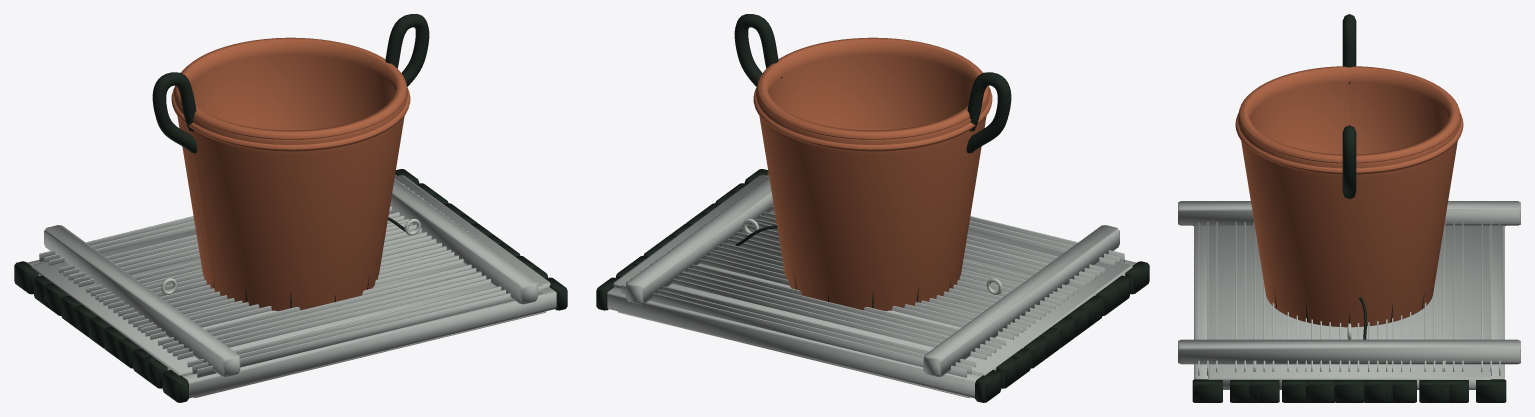
The model's file is grow-options.glb.
3 views of the same model, side by side, from view 1: azimuth 30°, elevation 25°; view 2: azimuth 150°, elevation 25°; view 3: azimuth 270°, elevation 25° (orthographic). The views are drawn at different scales.
Parts seen in each view (by area): view 1: pot_ceramic.006, led_multi_bar.006, led_panel.006, pot_fabric.006, led_bar.006; view 2: pot_ceramic.006, led_multi_bar.006, led_panel.006, pot_fabric.006, led_bar.006; view 3: pot_ceramic.006, led_multi_bar.006, led_panel.006, pot_fabric.006, led_bar.006.
Part boxes in pixels (x1=…): pot_ceramic.006: x1=171, y1=37, x2=410, y2=310; led_multi_bar.006: x1=14, y1=169, x2=567, y2=402; led_panel.006: x1=31, y1=175, x2=550, y2=388; pot_fabric.006: x1=152, y1=14, x2=429, y2=153; led_bar.006: x1=88, y1=217, x2=492, y2=348; pot_ceramic.006: x1=753, y1=37, x2=992, y2=310; led_multi_bar.006: x1=596, y1=169, x2=1149, y2=402; led_panel.006: x1=613, y1=175, x2=1132, y2=388; pot_fabric.006: x1=734, y1=14, x2=1011, y2=153; led_bar.006: x1=671, y1=218, x2=1074, y2=348; pot_ceramic.006: x1=1235, y1=66, x2=1463, y2=327; led_multi_bar.006: x1=1178, y1=201, x2=1520, y2=402; led_panel.006: x1=1208, y1=222, x2=1490, y2=402; pot_fabric.006: x1=1342, y1=14, x2=1356, y2=198; led_bar.006: x1=1334, y1=297, x2=1366, y2=402.
Bounding box in the file's own units: 0.575 × 0.3609 × 0.46.
